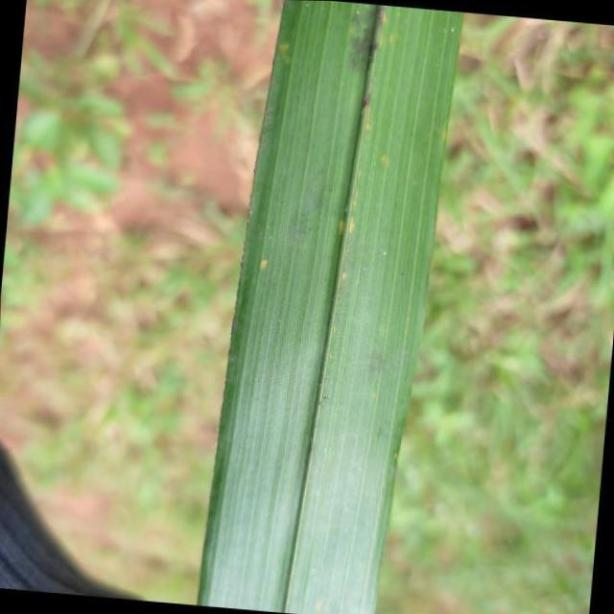Kalium: (195, 0, 461, 614)
